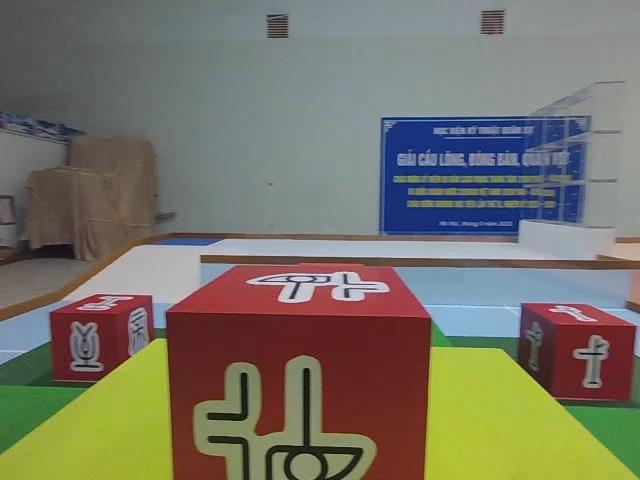R2 Fake: (47, 289, 157, 383)
R2 Real: (163, 261, 436, 480), (516, 301, 639, 404)
